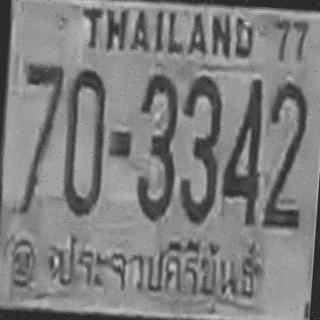N00: (60, 68, 109, 217)
N02: (262, 80, 310, 229), (262, 78, 309, 219)
N03: (132, 71, 180, 222), (176, 73, 224, 224)
N04: (220, 76, 266, 225)
N07: (16, 61, 64, 214), (19, 62, 64, 168)
P50: (42, 222, 270, 312)
